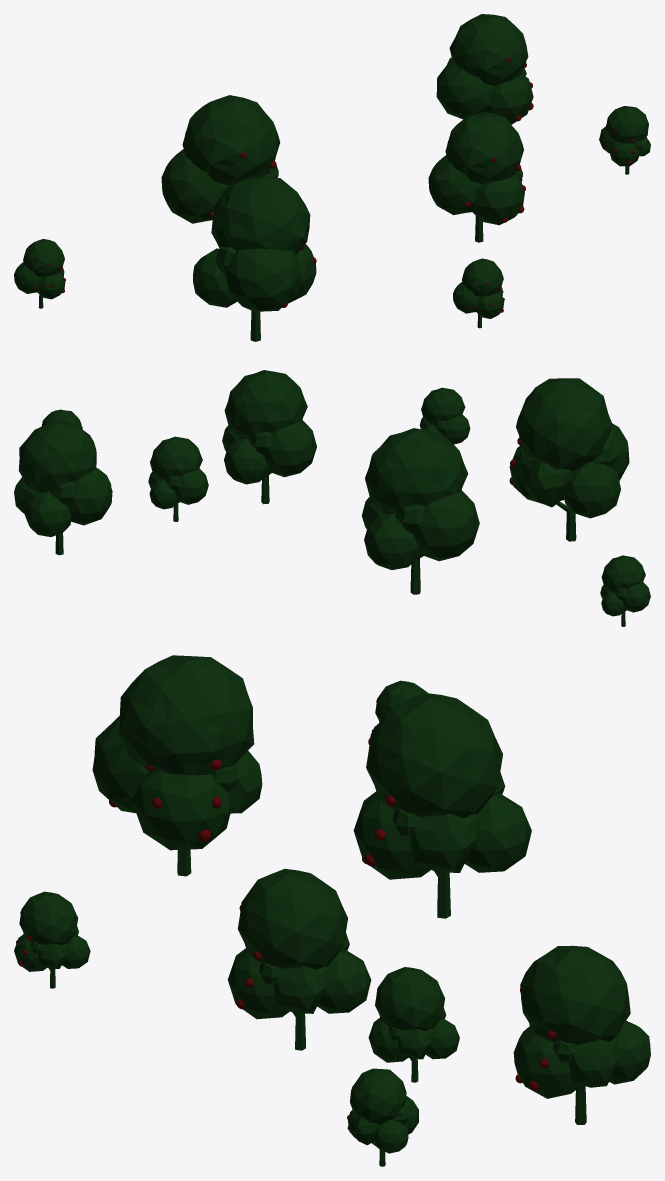
Rendered from Model_Fruit.fbx.
The picture shows the model from 3 angles, top to bottom: view 1: azimuth 30°, elevation 25°; view 2: azimuth 150°, elevation 25°; view 3: azimuth 270°, elevation 25°; orthographic projection. The views are drawn at different scales.
Parts seen in each view (by area): view 1: Obj3d66-1716343-52-436, Obj3d66-1716343-52-434, Obj3d66-1716343-52-429, Obj3d66-1716343-52-433, Obj3d66-1716343-52-438, Obj3d66-1716343-52-439, Obj3d66-1716343-52-437; view 2: Obj3d66-1716343-52-434, Obj3d66-1716343-52-436, Obj3d66-1716343-52-433, Obj3d66-1716343-52-429, Obj3d66-1716343-52-440, Obj3d66-1716343-52-439, Obj3d66-1716343-52-438, Obj3d66-1716343-52-437; view 3: Obj3d66-1716343-52-434, Obj3d66-1716343-52-436, Obj3d66-1716343-52-429, Obj3d66-1716343-52-433, Obj3d66-1716343-52-440, Obj3d66-1716343-52-437, Obj3d66-1716343-52-438, Obj3d66-1716343-52-439.
Part boxes in pixels (x1=…): Obj3d66-1716343-52-436: x1=193, y1=176, x2=316, y2=341; Obj3d66-1716343-52-434: x1=161, y1=95, x2=280, y2=223; Obj3d66-1716343-52-429: x1=428, y1=111, x2=524, y2=242; Obj3d66-1716343-52-433: x1=436, y1=14, x2=533, y2=124; Obj3d66-1716343-52-438: x1=453, y1=258, x2=504, y2=328; Obj3d66-1716343-52-439: x1=14, y1=239, x2=65, y2=308; Obj3d66-1716343-52-437: x1=599, y1=106, x2=650, y2=174; Obj3d66-1716343-52-434: x1=362, y1=428, x2=479, y2=594; Obj3d66-1716343-52-436: x1=509, y1=378, x2=629, y2=541; Obj3d66-1716343-52-433: x1=14, y1=421, x2=112, y2=555; Obj3d66-1716343-52-429: x1=222, y1=370, x2=316, y2=504; Obj3d66-1716343-52-440: x1=148, y1=436, x2=208, y2=521; Obj3d66-1716343-52-439: x1=600, y1=555, x2=650, y2=626; Obj3d66-1716343-52-438: x1=419, y1=387, x2=470, y2=444; Obj3d66-1716343-52-437: x1=42, y1=409, x2=82, y2=429; Obj3d66-1716343-52-434: x1=353, y1=693, x2=531, y2=918; Obj3d66-1716343-52-436: x1=92, y1=655, x2=262, y2=876; Obj3d66-1716343-52-429: x1=227, y1=869, x2=371, y2=1050; Obj3d66-1716343-52-433: x1=513, y1=945, x2=650, y2=1124; Obj3d66-1716343-52-440: x1=368, y1=967, x2=459, y2=1082; Obj3d66-1716343-52-437: x1=348, y1=1068, x2=418, y2=1166; Obj3d66-1716343-52-438: x1=14, y1=891, x2=90, y2=988; Obj3d66-1716343-52-439: x1=373, y1=680, x2=427, y2=730.
Size of the model in its own units: 30200 by 7322 by 19291.
